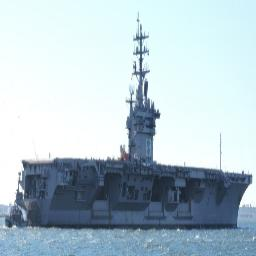Portanaves: (16, 5, 255, 234)
